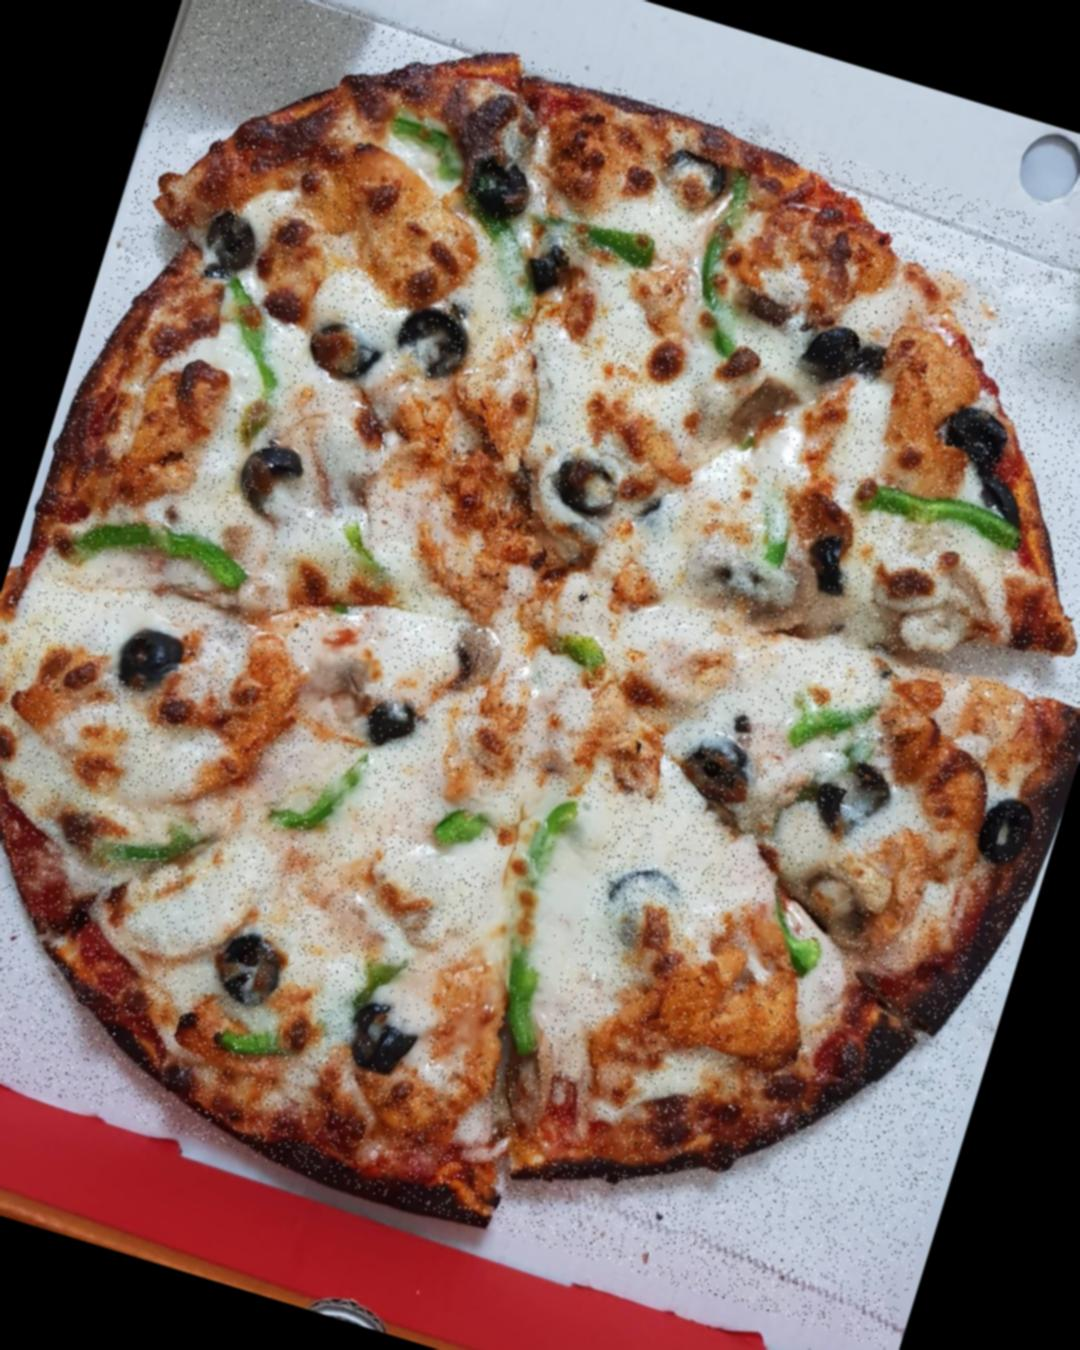Mushroom: (785, 836, 907, 947), (715, 364, 820, 473), (295, 626, 389, 727), (432, 612, 509, 700), (517, 511, 602, 591)
Olives: (388, 276, 496, 412), (339, 961, 447, 1093), (799, 749, 905, 845), (681, 722, 770, 828), (201, 915, 294, 1009), (298, 317, 390, 401), (102, 606, 191, 692), (551, 444, 627, 532), (932, 398, 1018, 475), (512, 235, 597, 310), (233, 429, 315, 505), (966, 787, 1041, 871), (799, 316, 877, 395), (194, 207, 267, 276), (467, 162, 540, 227), (795, 538, 858, 611), (359, 683, 418, 746)
Peppers: (444, 784, 612, 1073), (665, 162, 787, 372), (54, 503, 261, 617), (176, 255, 318, 415), (849, 453, 1030, 559), (94, 781, 228, 884), (523, 190, 667, 281), (773, 661, 896, 767), (359, 102, 482, 204), (743, 871, 843, 994), (283, 745, 372, 842), (420, 777, 510, 872), (222, 1001, 310, 1080), (531, 611, 619, 682)
Pizza: (0, 0, 1080, 1350)
